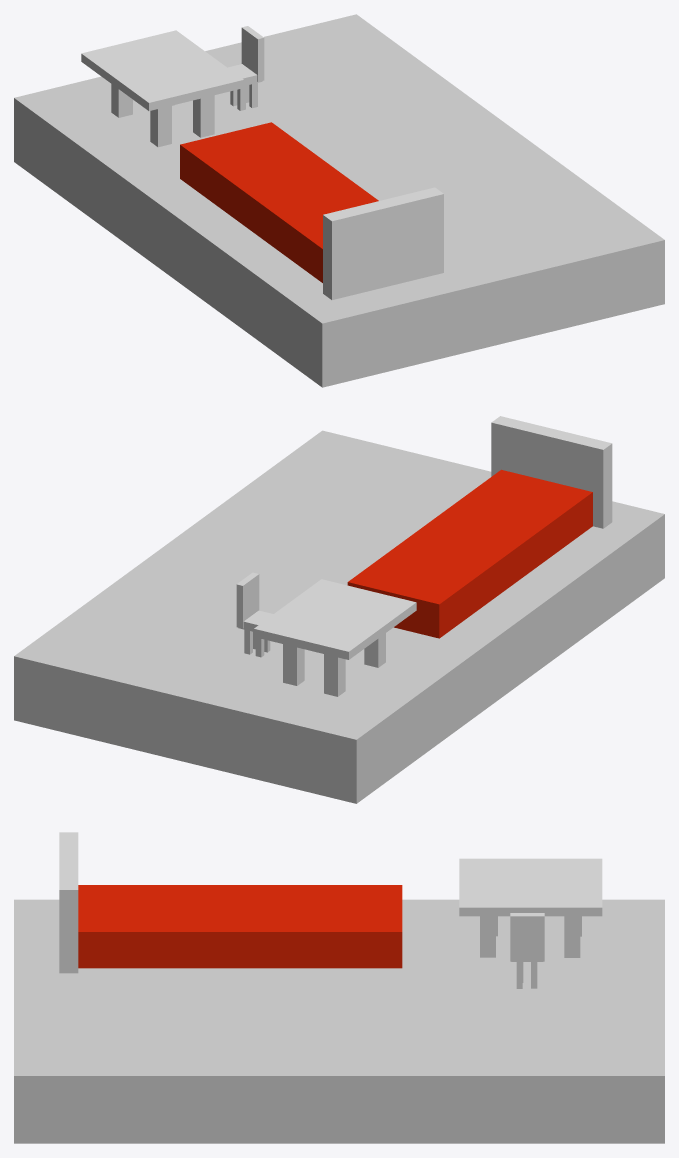
File: room.glb
3 renders of one model, top to bottom at view 1: azimuth 30°, elevation 25°; view 2: azimuth 150°, elevation 25°; view 3: azimuth 270°, elevation 25°, orthographic. The views are drawn at different scales.
Parts seen in each view (by area): view 1: Cube, Cube.001, Cube.002, Cube.007, Cube.013, Cube.004, Cube.003, Cube.006; view 2: Cube, Cube.001, Cube.007, Cube.002, Cube.013, Cube.006, Cube.005; view 3: Cube, Cube.001, Cube.007, Cube.002, Cube.013, Cube.005, Cube.004.
Boxes of the visible parts, x1,y1,x2,y2 form: Cube: (14,14,664,387); Cube.001: (180,122,378,282); Cube.002: (323,187,443,299); Cube.007: (81,30,243,110); Cube.013: (241,26,264,81); Cube.004: (193,95,214,137); Cube.003: (150,105,171,147); Cube.006: (111,84,132,117); Cube: (14,430,664,803); Cube.001: (347,469,592,638); Cube.007: (254,579,416,659); Cube.002: (491,416,612,528); Cube.013: (236,572,259,628); Cube.006: (324,654,345,696); Cube.005: (283,644,304,685); Cube: (14,899,664,1143); Cube.001: (78,885,402,968); Cube.007: (459,858,602,916); Cube.002: (59,832,78,973); Cube.013: (510,913,544,961); Cube.005: (564,916,580,957); Cube.004: (480,916,495,957).
Size of the model in its own units: 11.18 by 4.46 by 17.44.
